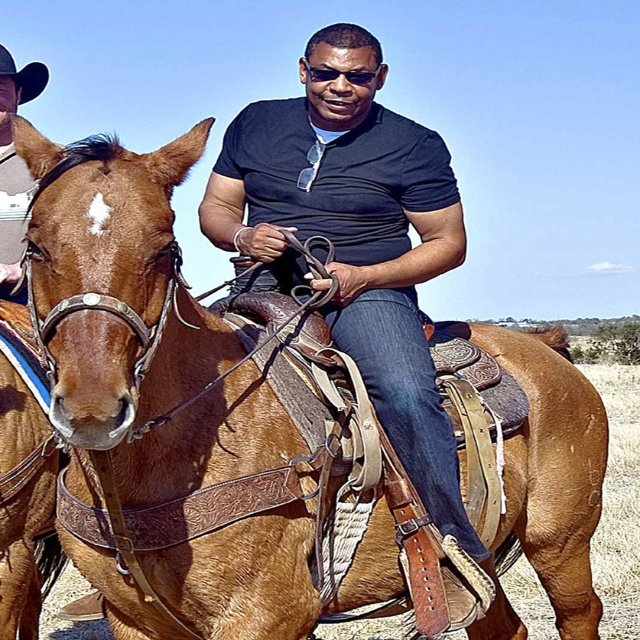Horse: (8, 112, 609, 640), (0, 293, 69, 640)
